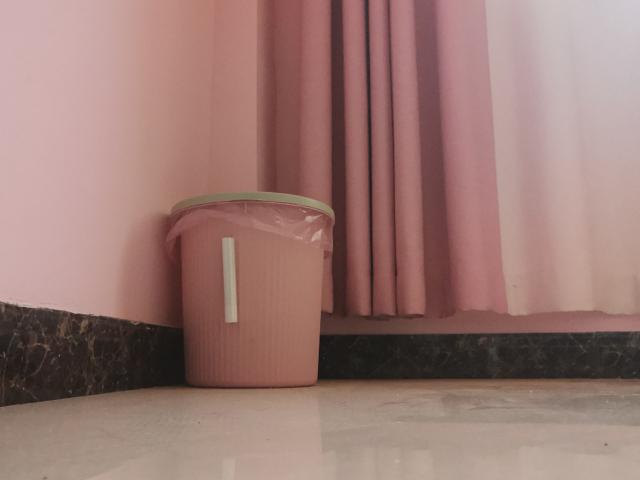curtain: (248, 1, 640, 320)
trashcan: (165, 189, 337, 390)
